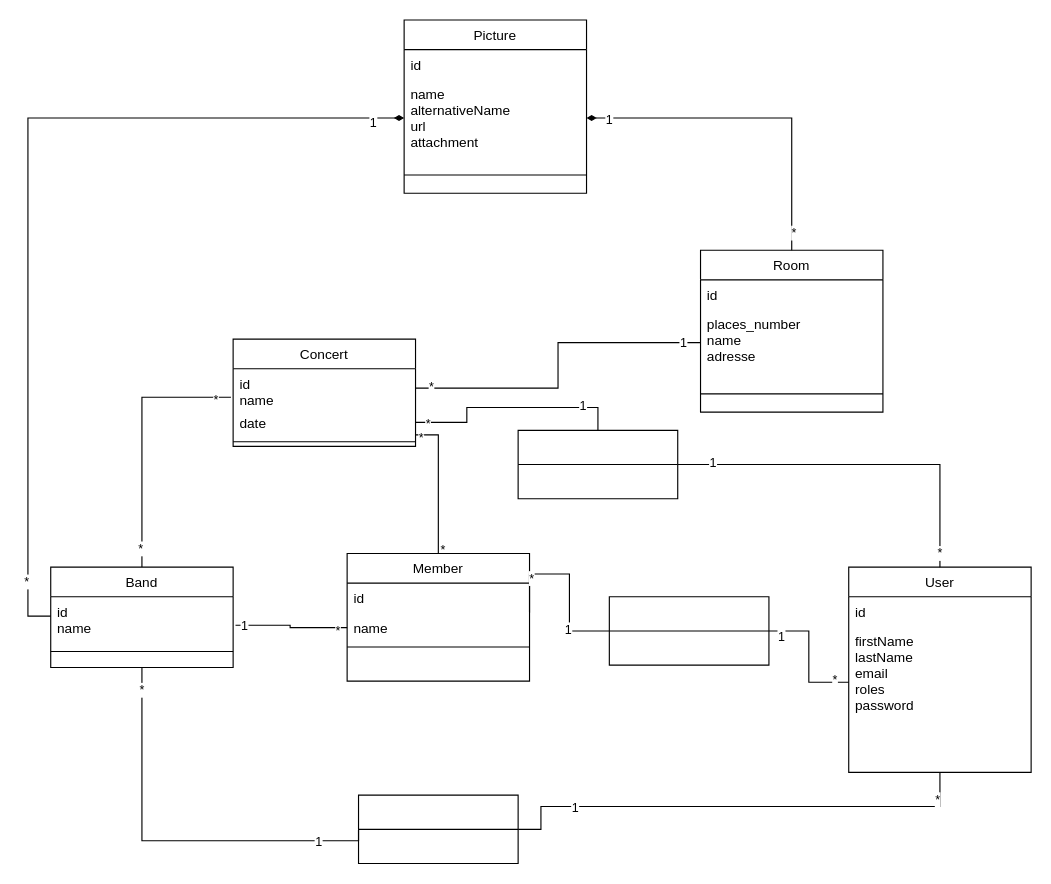
Image size: 1051x884. Some labels were removed from this diagram. The shapes that lost their labels are listed below. From the top down, each one's centre as x and y in pixels, then its label:
(x=597, y=464): User_concert (Favoris)
(x=688, y=630): User_member (Favoris)
(x=437, y=829): User_band (Favoris)
